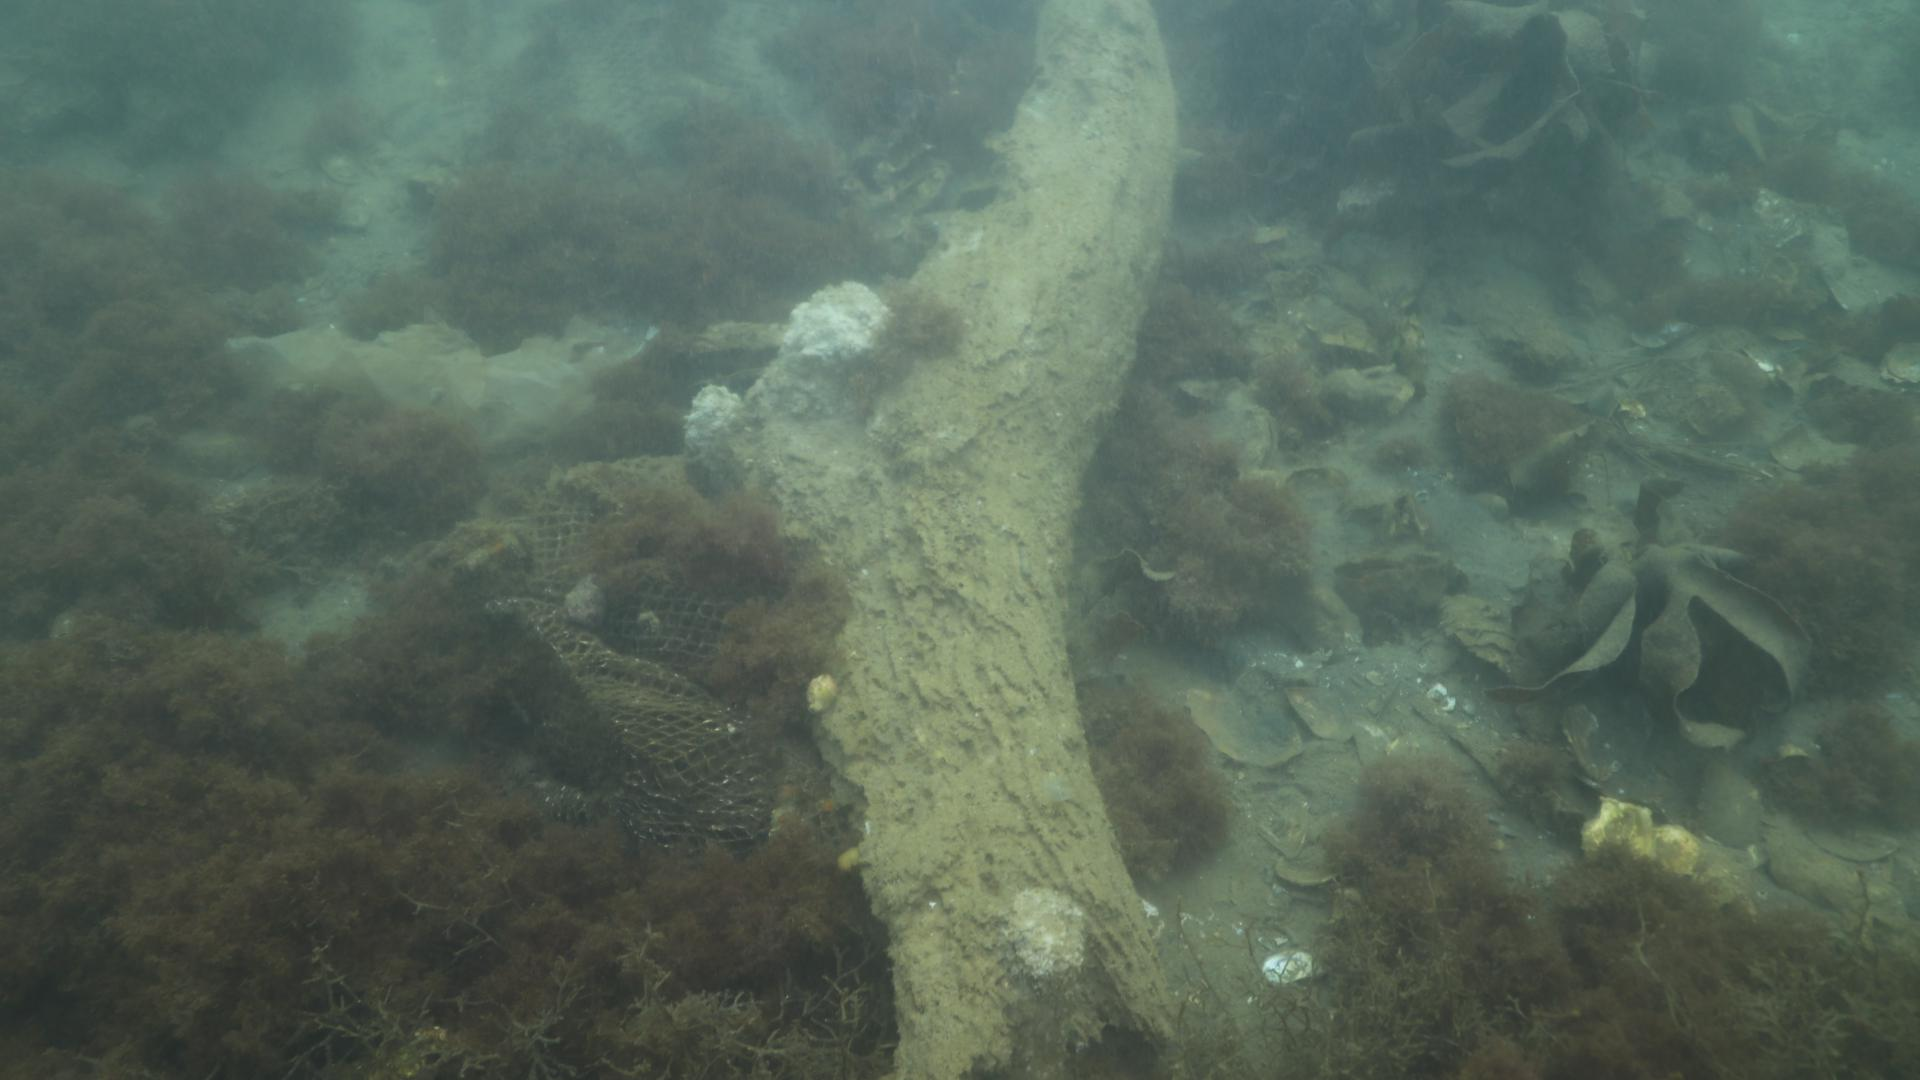fish net: (497, 454, 852, 851)
wood: (686, 0, 1182, 1080)
